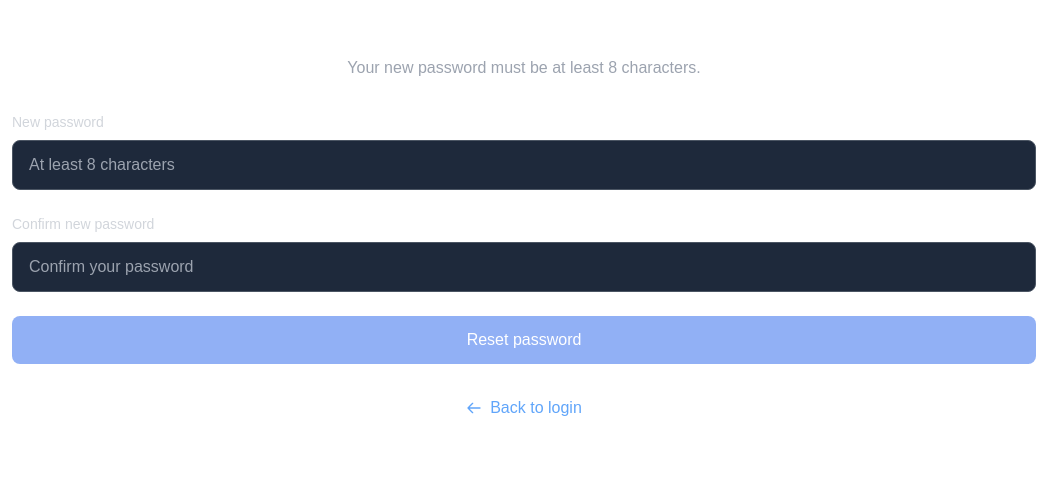
Scenario: ResetPasswordPage › AC5: Expired Link Handling › shows generic error when update fails for other reasons
Type "newpassword123" into the password field labelled "New password" at (524, 165), box x1=12 y1=140 x2=1036 y2=190
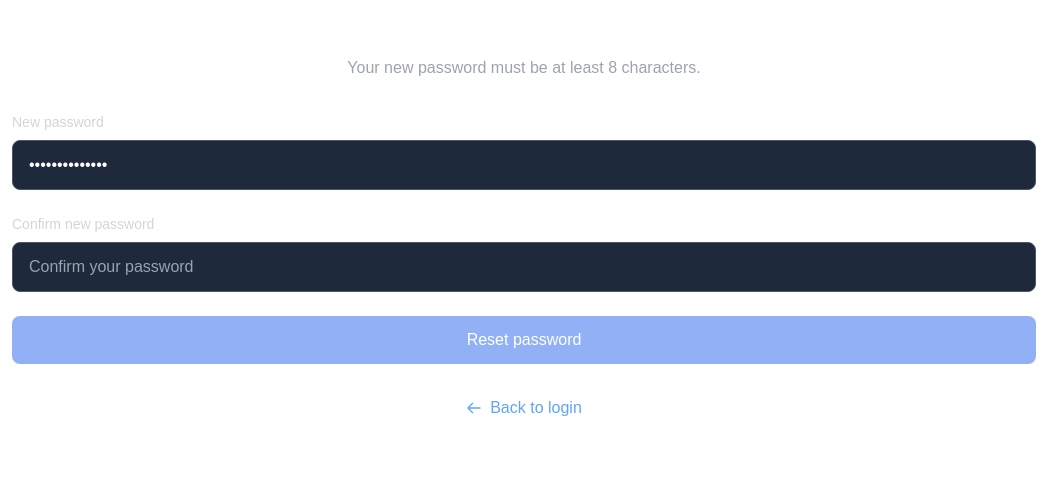
Type "newpassword123" into the password field labelled "Confirm new password" at (524, 267), box x1=12 y1=242 x2=1036 y2=292
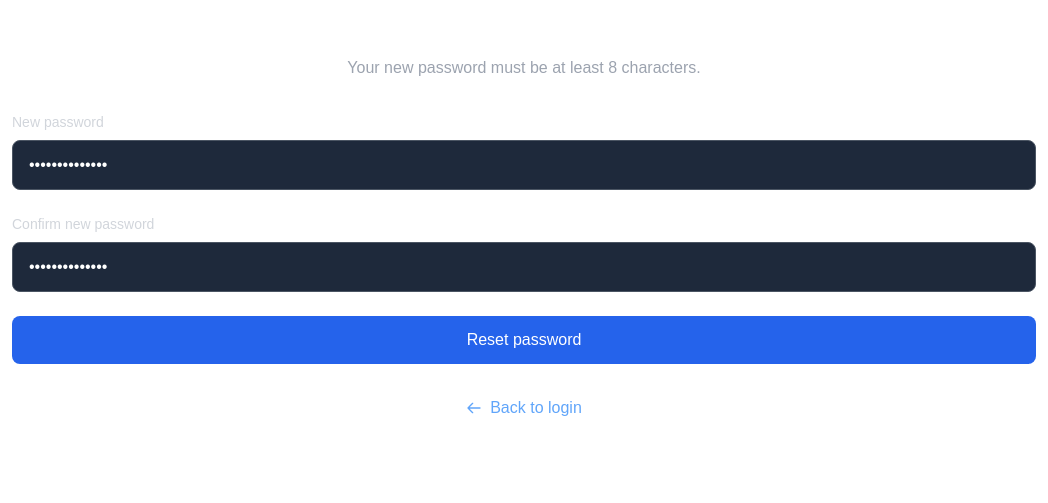
Click the button "Reset password" at (524, 340), box x1=12 y1=316 x2=1036 y2=364
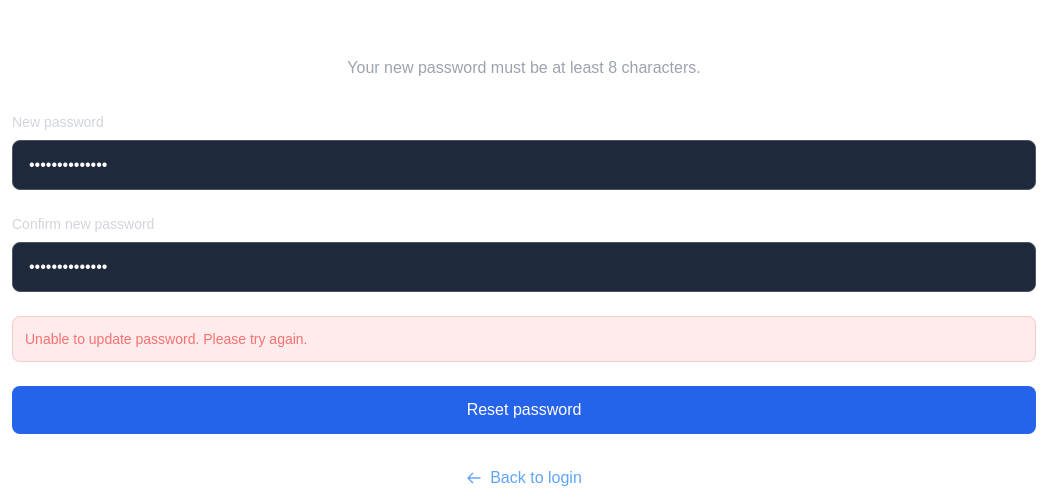
Now the text "Unable to update password. Please try again." is shown, box x1=25 y1=331 x2=308 y2=347
